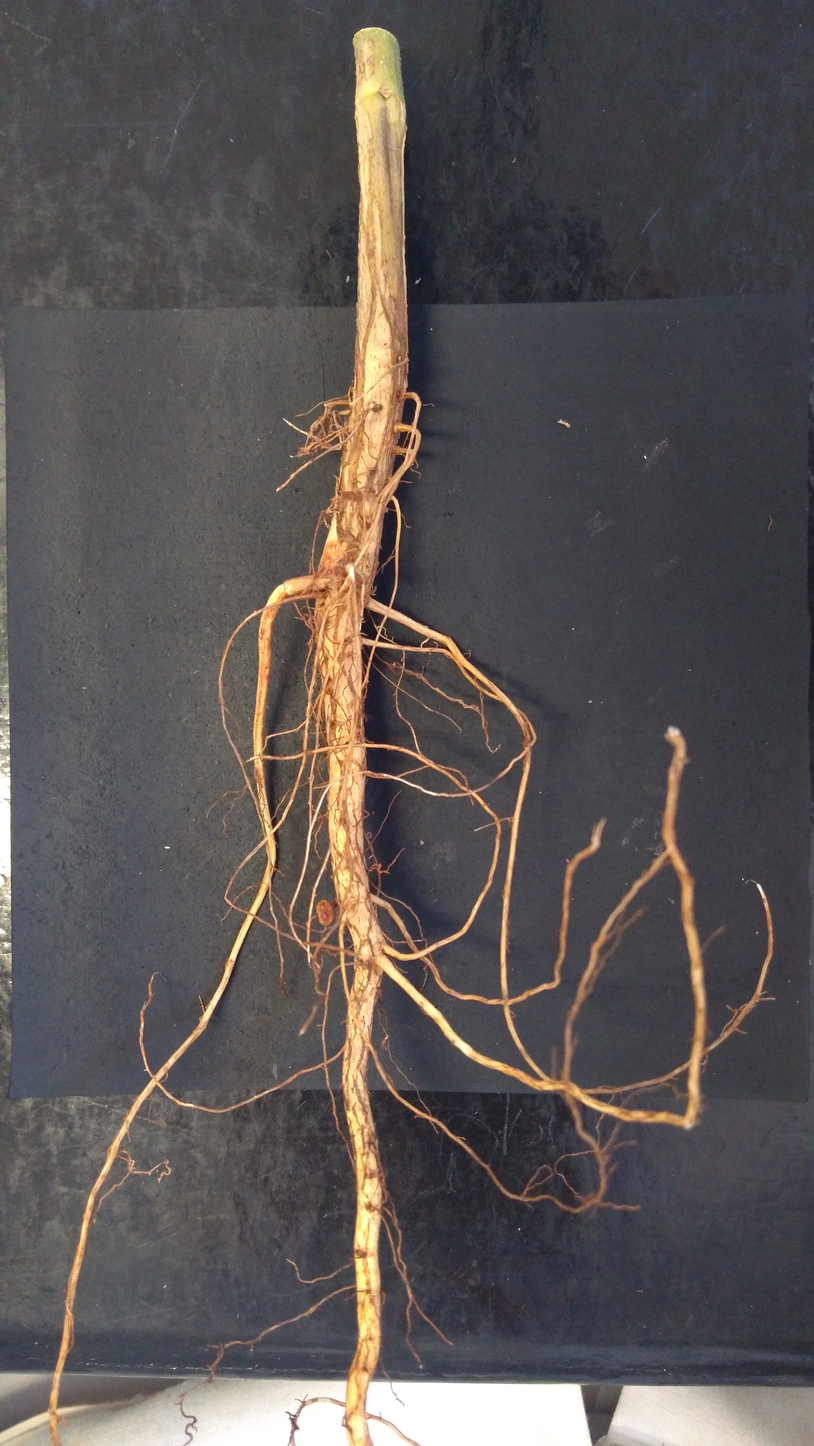nodule: (316, 900, 334, 926), (368, 403, 375, 409)
